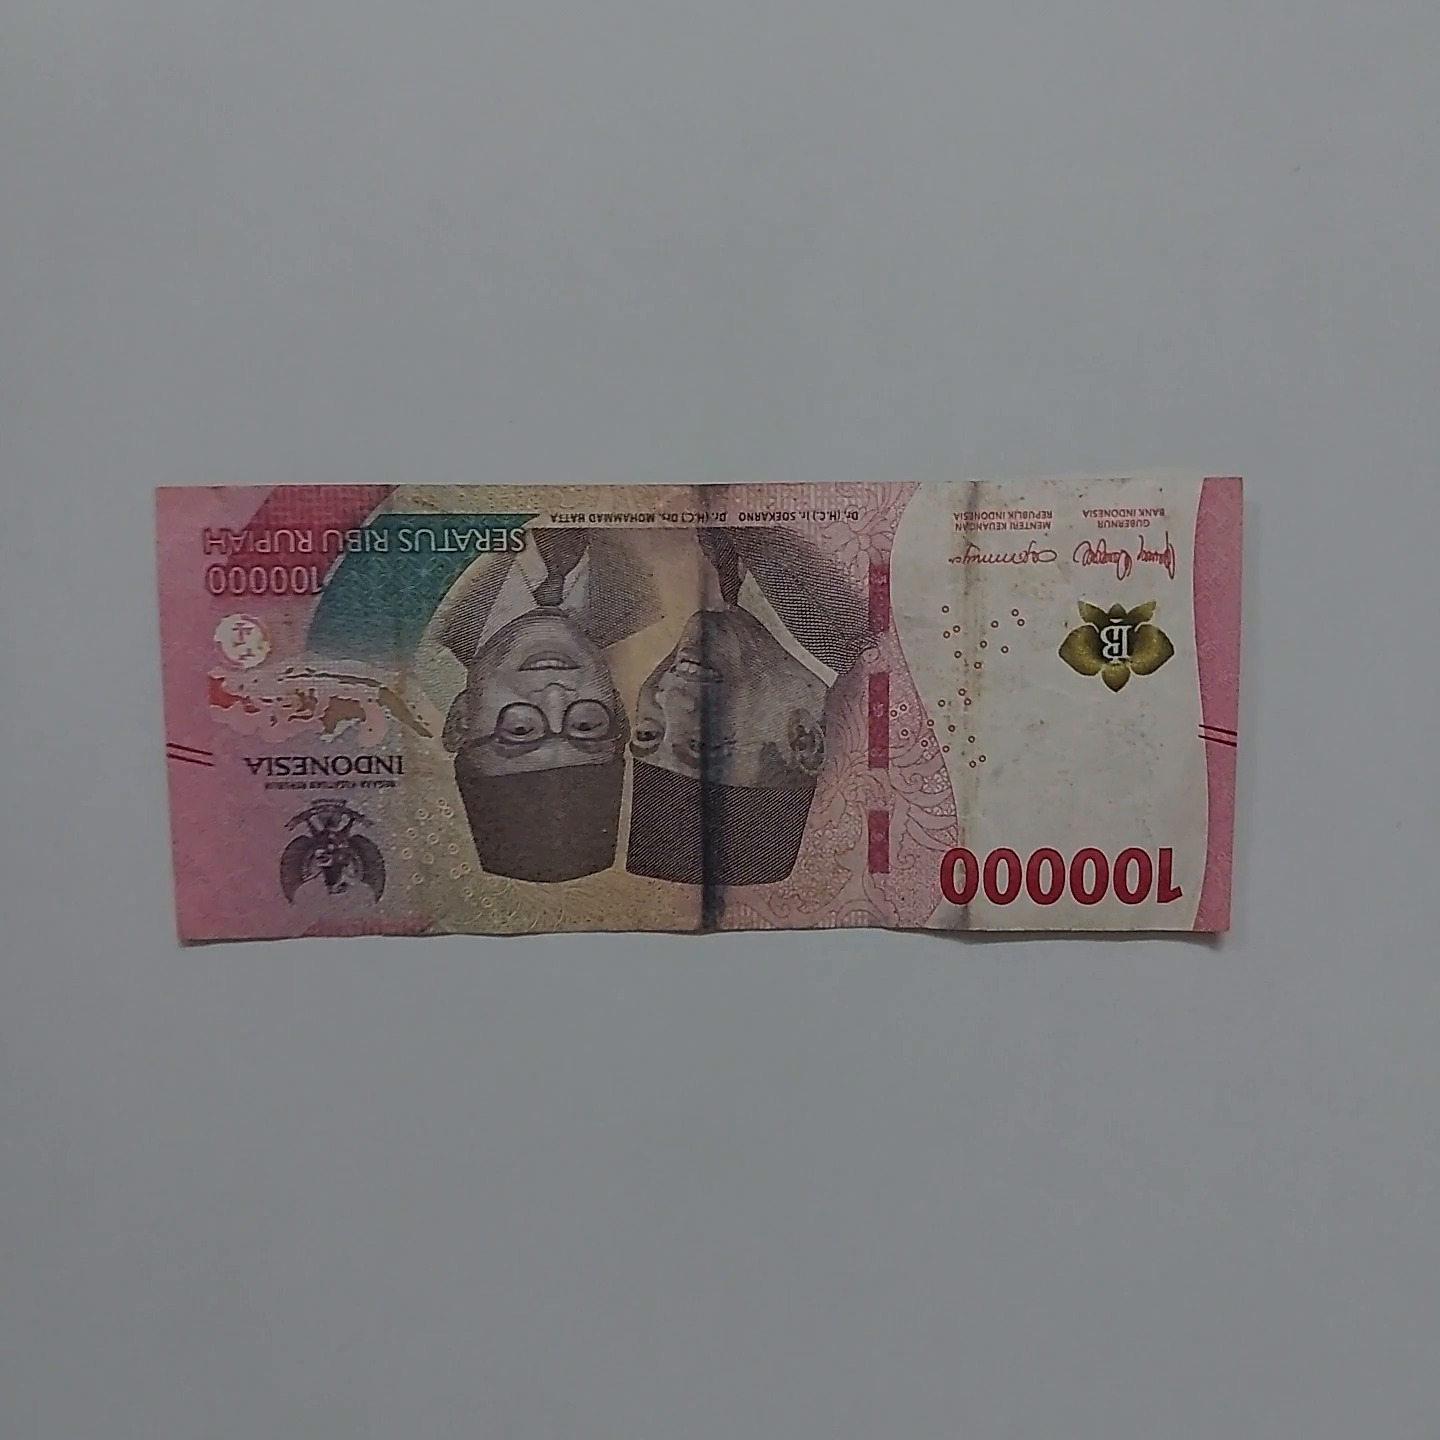100k: (150, 495, 1237, 943)
